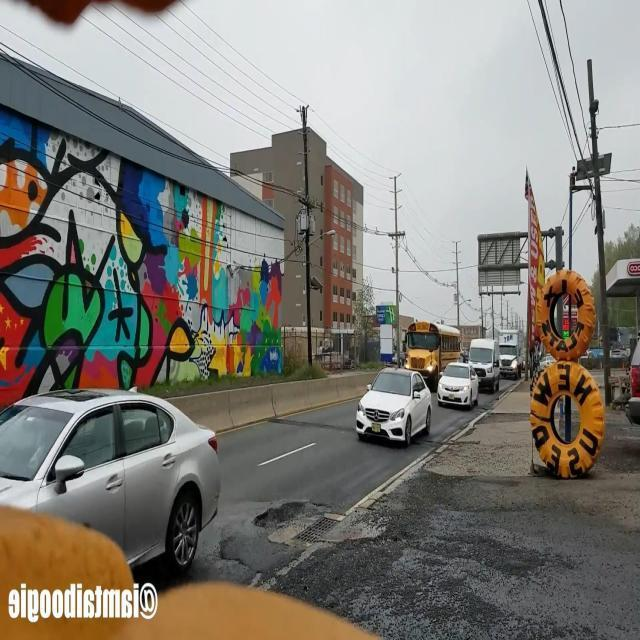Pothole: (254, 490, 394, 575)
